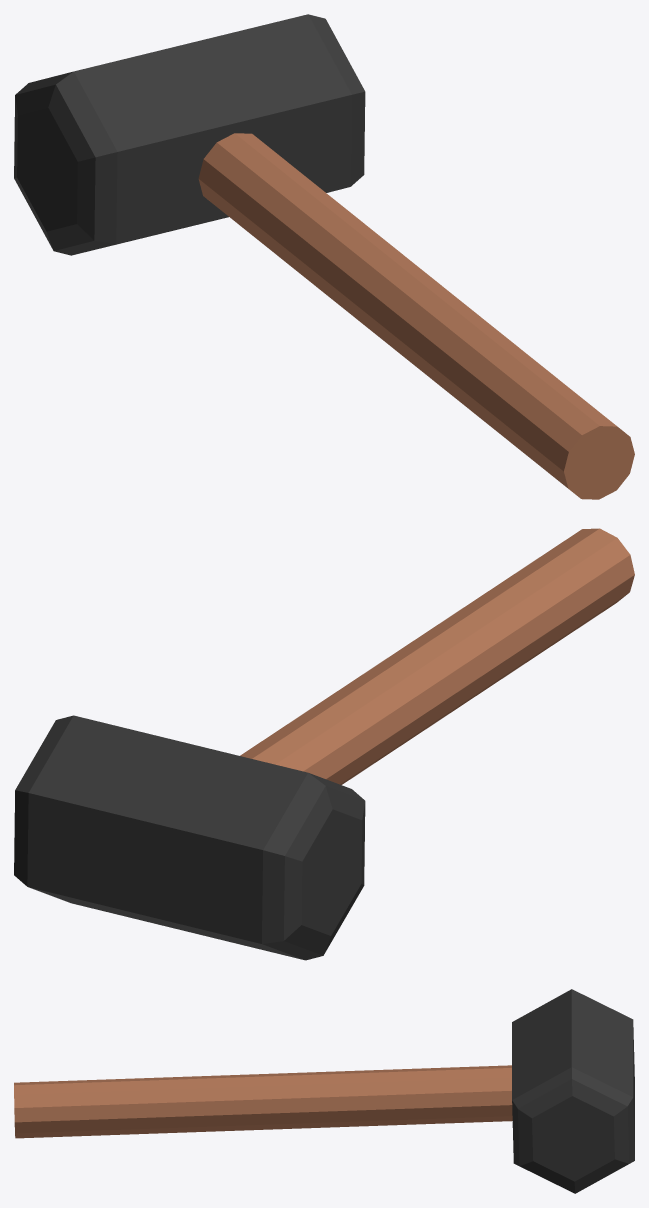
The model's file is Martillo.glb.
3 renders of one model, top to bottom at view 1: azimuth 30°, elevation 25°; view 2: azimuth 150°, elevation 25°; view 3: azimuth 270°, elevation 25°, orthographic. The views are drawn at different scales.
Visible parts, largest first — view 1: Mesh1_Group1_Component_1_1_Model; view 2: Mesh1_Group1_Component_1_1_Model; view 3: Mesh1_Group1_Component_1_1_Model.
Part boxes in pixels (x1,y1,x2,y2): Mesh1_Group1_Component_1_1_Model: (14, 14, 634, 499); Mesh1_Group1_Component_1_1_Model: (14, 528, 634, 960); Mesh1_Group1_Component_1_1_Model: (14, 989, 634, 1193).
Bounding box in the file's own units: 0.1139 × 0.0712 × 0.3158.
1 material, 1 textured.
